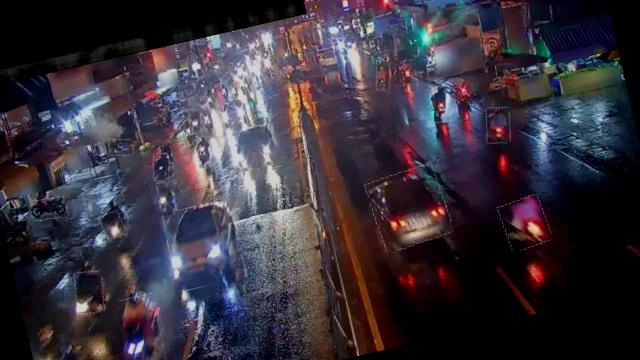Bike: (118, 293, 167, 360), (498, 194, 552, 253), (70, 268, 109, 318), (482, 104, 516, 146), (29, 194, 70, 224), (428, 85, 456, 124), (448, 84, 476, 116), (191, 135, 215, 170), (155, 180, 177, 216), (100, 210, 126, 240), (372, 58, 394, 92), (149, 152, 173, 183), (400, 60, 420, 92), (108, 136, 136, 158), (178, 119, 198, 148), (198, 104, 216, 132), (187, 109, 205, 136)
Car: (162, 198, 248, 292), (365, 162, 454, 252), (232, 123, 283, 176), (218, 100, 253, 132)
